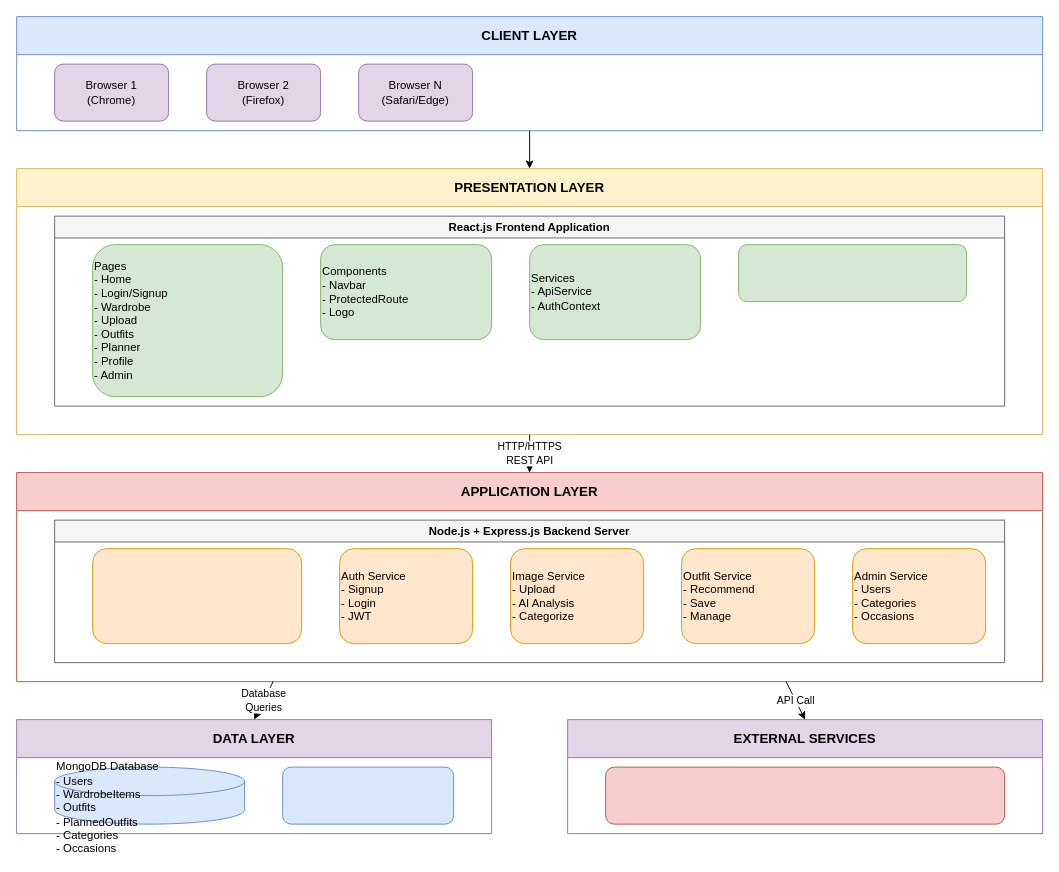
Some shapes in this 1059 by 872 pixel diagram are drawn without their labels. The shapes that lost their labels are listed below. From the top down, each one's centre as x and y in pixels, then its label:
At [852,273]: "React Router JWT Auth Context".
At [197,596]: "API Gateway / Middleware - CORS - Body Parser - JWT Auth - Error Handling".
At [368,795]: "File Storage (uploads/)".
At [805,795]: "Google Vision API - Object Detection - Label Detection - Image Analysis".
